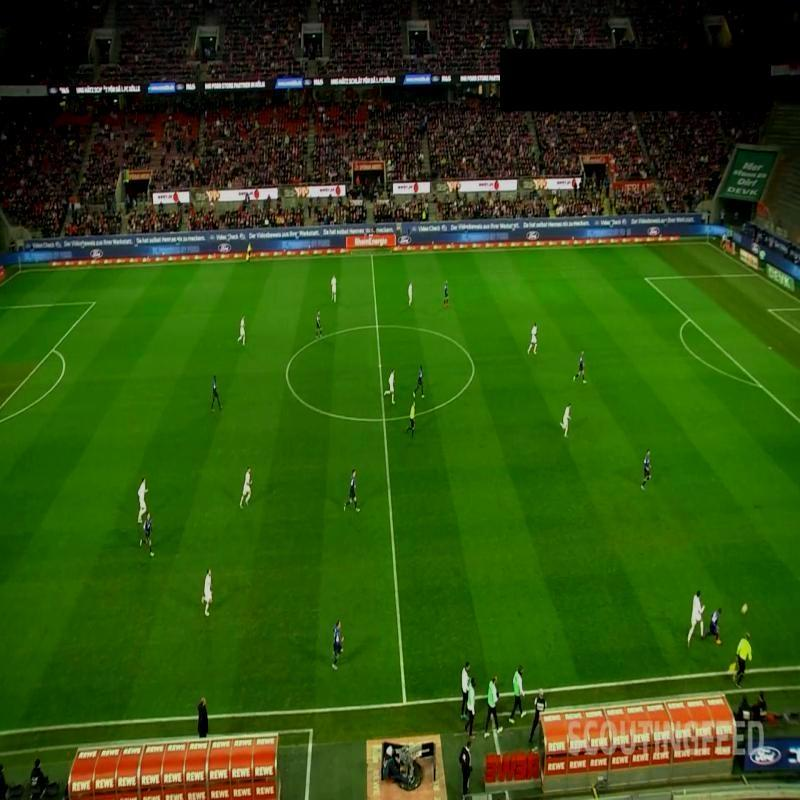1: (14, 264, 26, 280), (702, 237, 714, 250)
10: (44, 344, 60, 358), (683, 313, 697, 327)
11: (754, 378, 768, 392)
13: (365, 248, 379, 262)
14: (370, 319, 384, 333)
15: (377, 412, 391, 427)
16: (396, 692, 414, 715)
2: (751, 268, 765, 282)
7: (762, 304, 776, 318)
9: (89, 296, 103, 310), (638, 272, 652, 284)
c: (467, 358, 481, 374), (280, 367, 294, 381)
